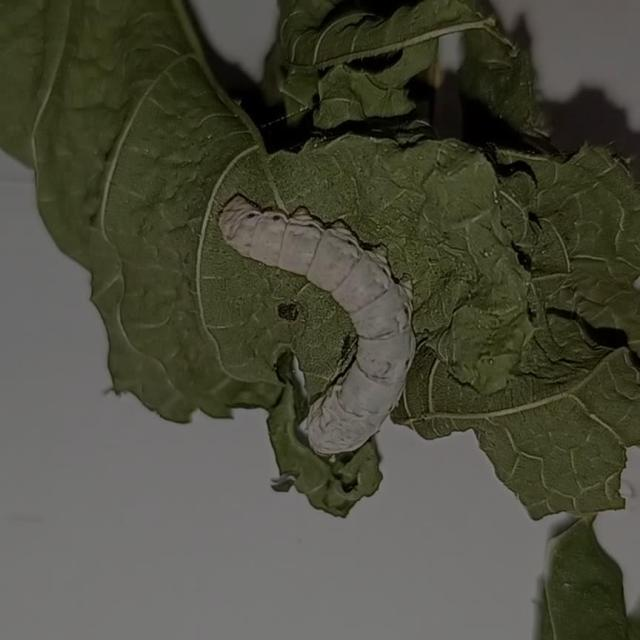Healthy: (193, 171, 430, 470)
